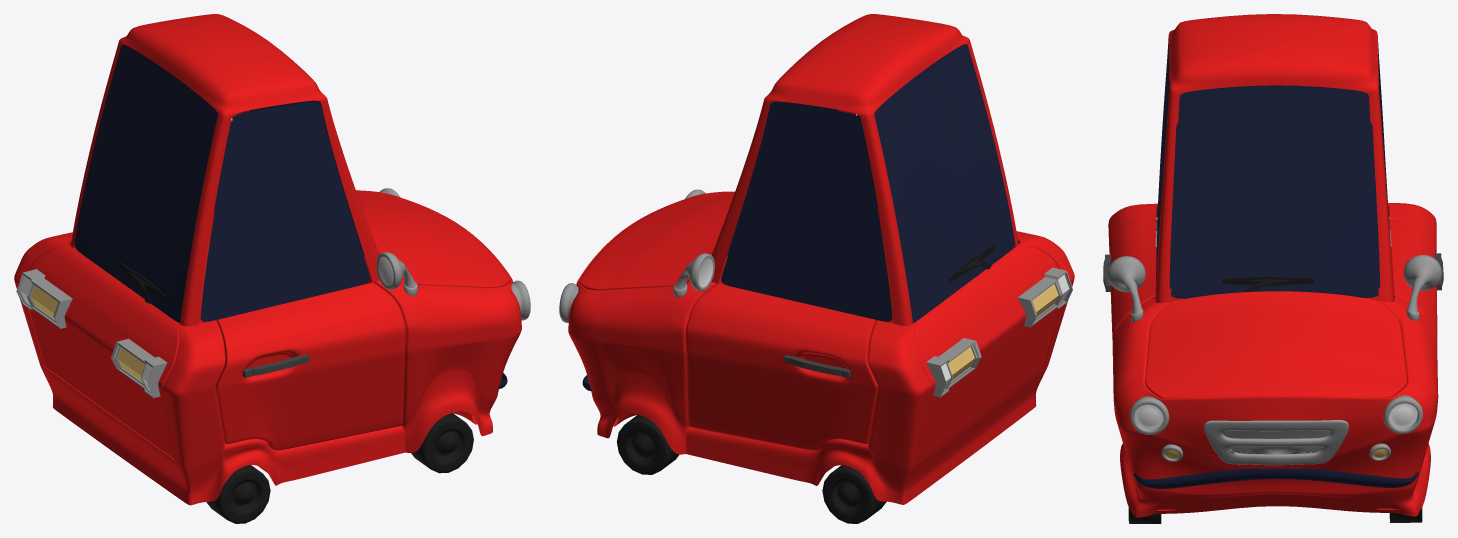
Rendered from cartoon_car_model_.fbx.
3 views of the same model, side by side, from view 1: azimuth 30°, elevation 25°; view 2: azimuth 150°, elevation 25°; view 3: azimuth 270°, elevation 25° (orthographic).
Parts seen in each view (by area): view 1: CAR.001, wheel, wheel.003; view 2: CAR.001, wheel.001, wheel.002; view 3: CAR.001.
Boxes of the visible parts, x1=… form: CAR.001: x1=14, y1=14, x2=530, y2=505; wheel: x1=411, y1=413, x2=473, y2=473; wheel.003: x1=206, y1=465, x2=270, y2=523; CAR.001: x1=559, y1=14, x2=1074, y2=504; wheel.001: x1=617, y1=414, x2=679, y2=474; wheel.002: x1=822, y1=465, x2=886, y2=523; CAR.001: x1=1103, y1=14, x2=1443, y2=517.
Size of the model in its own units: 172 by 176 by 131.
